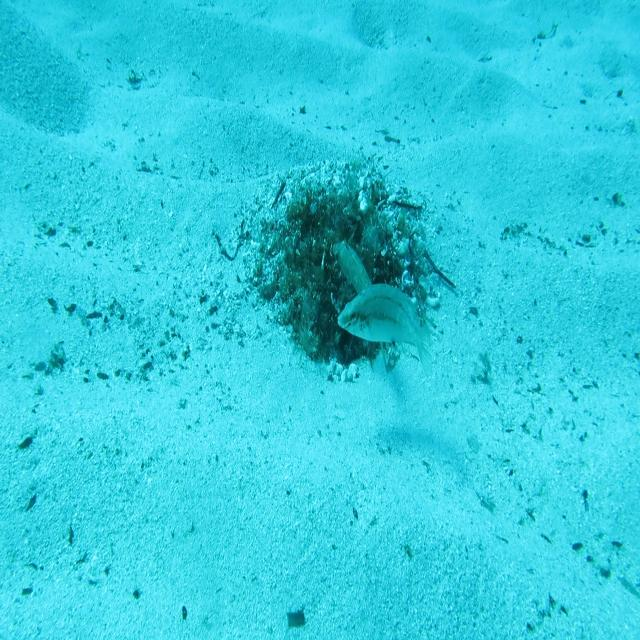ROLL: (330, 236, 393, 378)
core_nest: (312, 210, 358, 245)
female: (336, 281, 434, 381)
nest: (236, 136, 450, 390)
vegetation: (286, 612, 308, 626)
